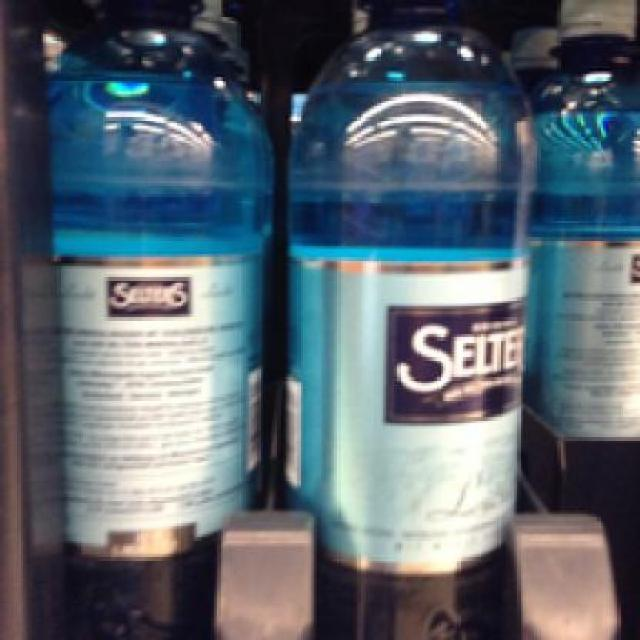Water: (283, 2, 526, 638), (42, 2, 275, 638), (525, 0, 638, 446)
